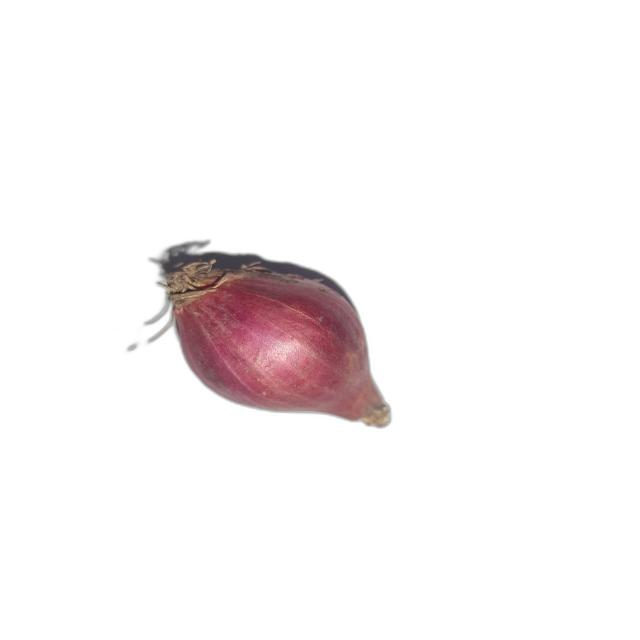onion: (149, 259, 393, 430)
